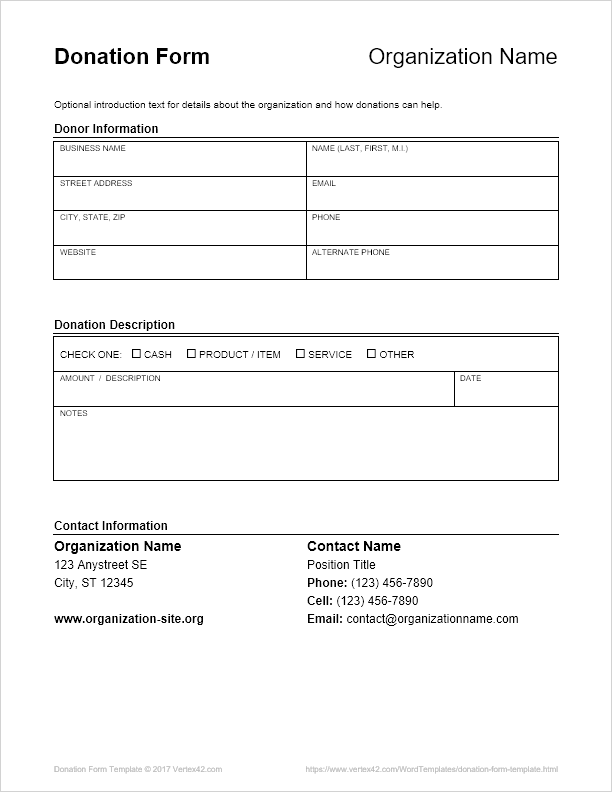checkbox: (365, 346, 378, 360), (130, 347, 142, 360), (186, 347, 197, 360), (295, 347, 306, 360)
textbox: (49, 402, 563, 483), (51, 368, 458, 409), (307, 137, 560, 180), (50, 139, 310, 180), (303, 242, 563, 283), (304, 208, 562, 248), (50, 243, 310, 282), (304, 174, 562, 213), (50, 210, 310, 248), (51, 175, 310, 213), (451, 368, 562, 410)
